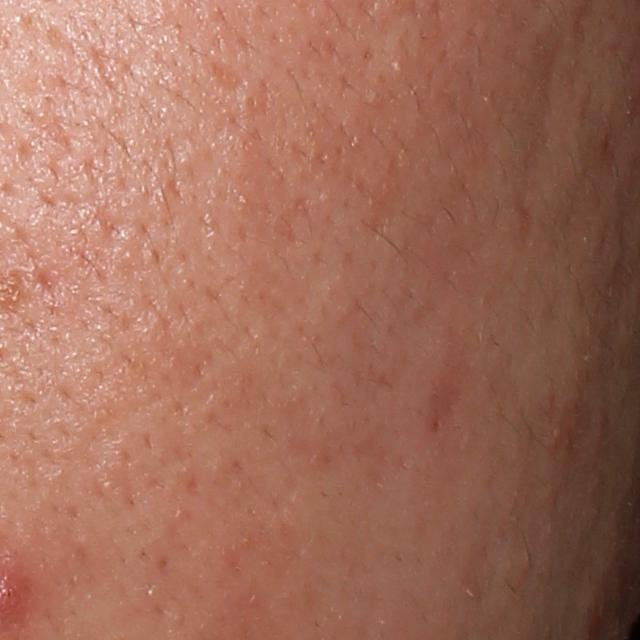atrophic_scar: (201, 54, 247, 97), (34, 265, 64, 299)
